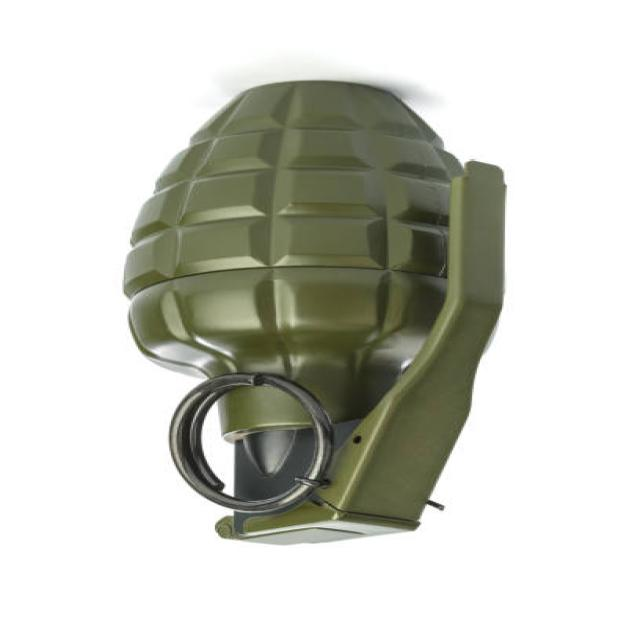grenade: (117, 66, 512, 557)
